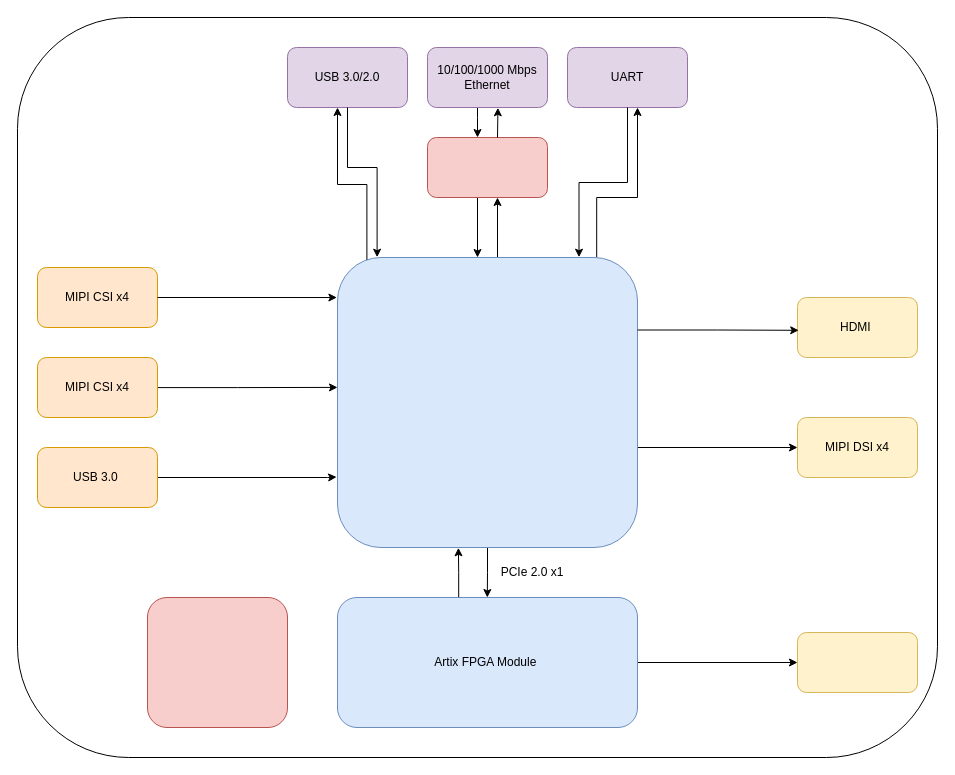
Some shapes in this 955 by 775 pixel diagram are drawn without their labels. Here are the shapes that lost their labels. From the top down, the box of each, then its label:
(426, 136, 548, 198): POE
(336, 256, 638, 548): i.MX8M Processor Module
(146, 596, 288, 728): Power
(796, 632, 918, 692): RGB Interface
